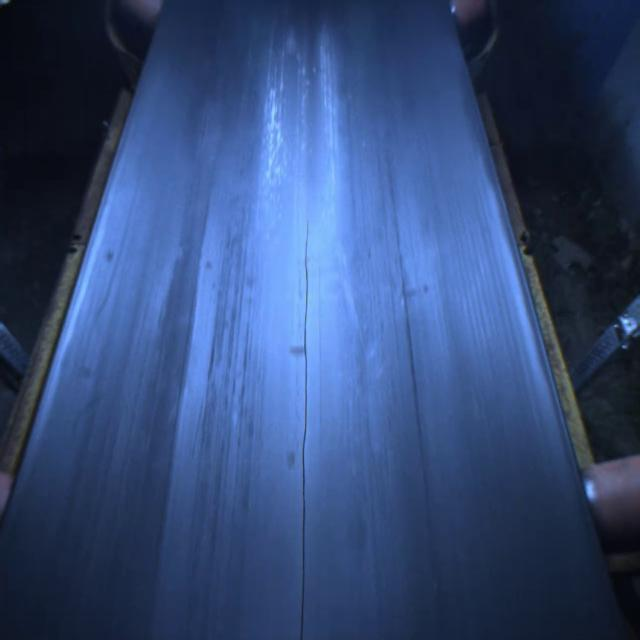Tear: (296, 217, 318, 640)
